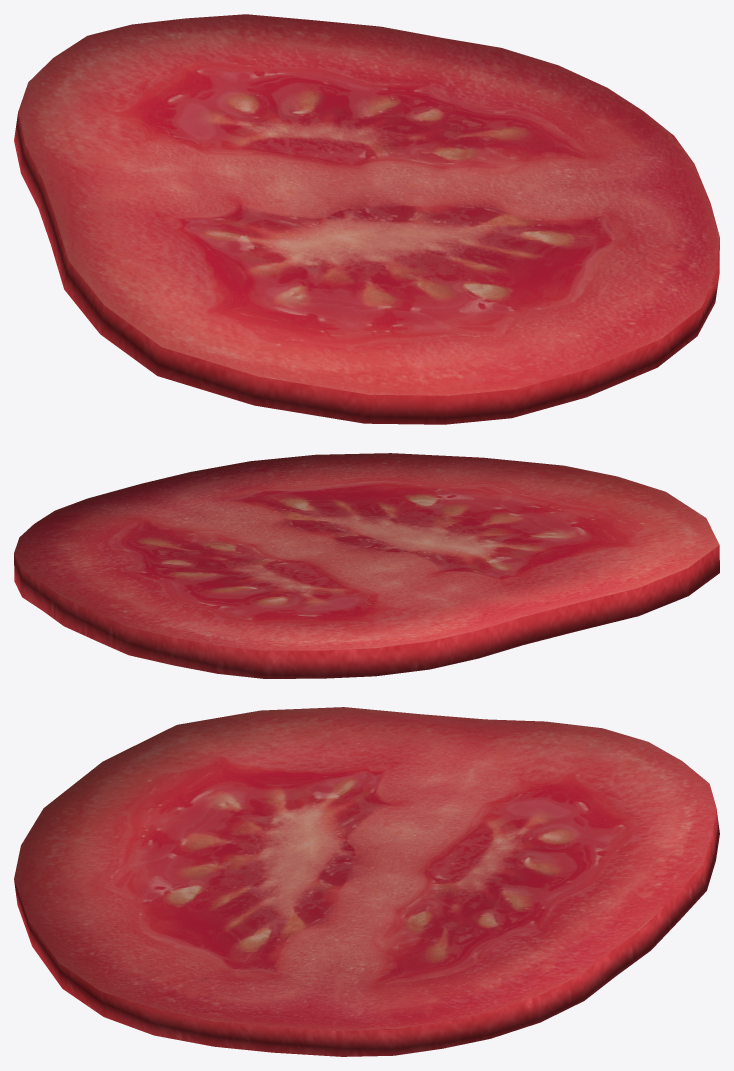
File: tomato.fbx
3 views of the same model, one above another, from view 1: azimuth 30°, elevation 25°; view 2: azimuth 150°, elevation 25°; view 3: azimuth 270°, elevation 25° (orthographic). The views are drawn at different scales.
Parts seen in each view (by area): view 1: Tomatoes.001; view 2: Tomatoes.001; view 3: Tomatoes.001.
Part boxes in pixels (x1,y1,x2,y2): Tomatoes.001: (14, 14, 719, 424); Tomatoes.001: (14, 453, 719, 678); Tomatoes.001: (14, 707, 719, 1056).
Size of the model in its own units: 8.12 by 1.49 by 8.51.
